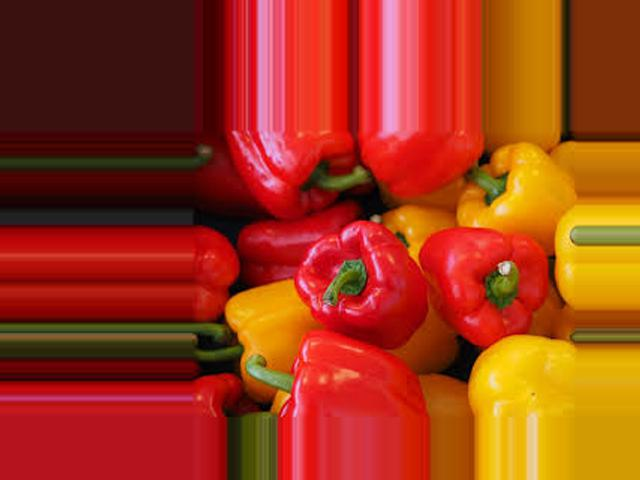bell_pepper: (467, 150, 573, 244)
